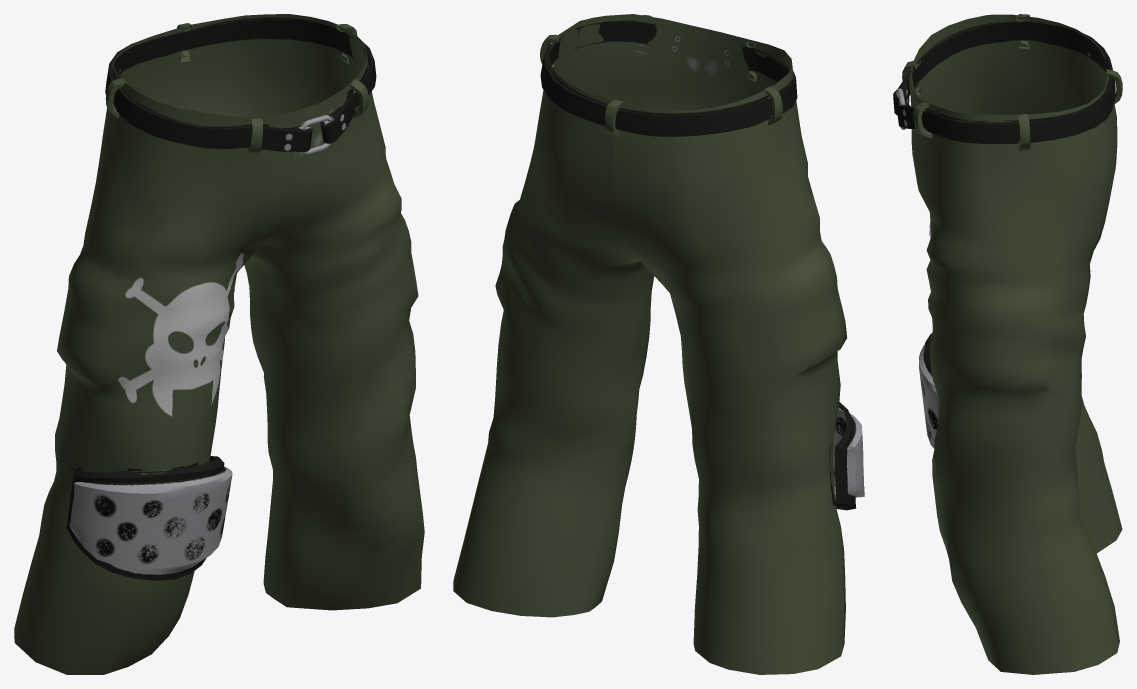
File: odin.glb
3 renders of one model, left to right at view 1: azimuth 30°, elevation 25°; view 2: azimuth 150°, elevation 25°; view 3: azimuth 270°, elevation 25°, orthographic. The views are drawn at different scales.
Visible parts, largest first — view 1: Pants_Low, Knee_pad_Low, Belt_Low, Belt_loops_Low; view 2: Pants_Low, Belt_Low, Knee_pad_Low, Belt_loops_Low; view 3: Pants_Low, Belt_Low, Belt_loops_Low, Knee_pad_Low.
Boxes of the visible parts, x1=… form: Pants_Low: x1=14, y1=14, x2=424, y2=674; Knee_pad_Low: x1=66, y1=456, x2=232, y2=580; Belt_Low: x1=105, y1=18, x2=376, y2=155; Belt_loops_Low: x1=105, y1=23, x2=368, y2=153; Pants_Low: x1=453, y1=14, x2=847, y2=674; Belt_Low: x1=540, y1=42, x2=797, y2=136; Knee_pad_Low: x1=833, y1=402, x2=864, y2=510; Belt_loops_Low: x1=540, y1=15, x2=782, y2=137; Pants_Low: x1=909, y1=14, x2=1122, y2=674; Belt_Low: x1=893, y1=22, x2=1115, y2=143; Belt_loops_Low: x1=902, y1=14, x2=1122, y2=150; Knee_pad_Low: x1=919, y1=333, x2=938, y2=448.
Size of the model in its own units: 1.31 by 1.88 by 0.7404.
1 material, 1 textured.
